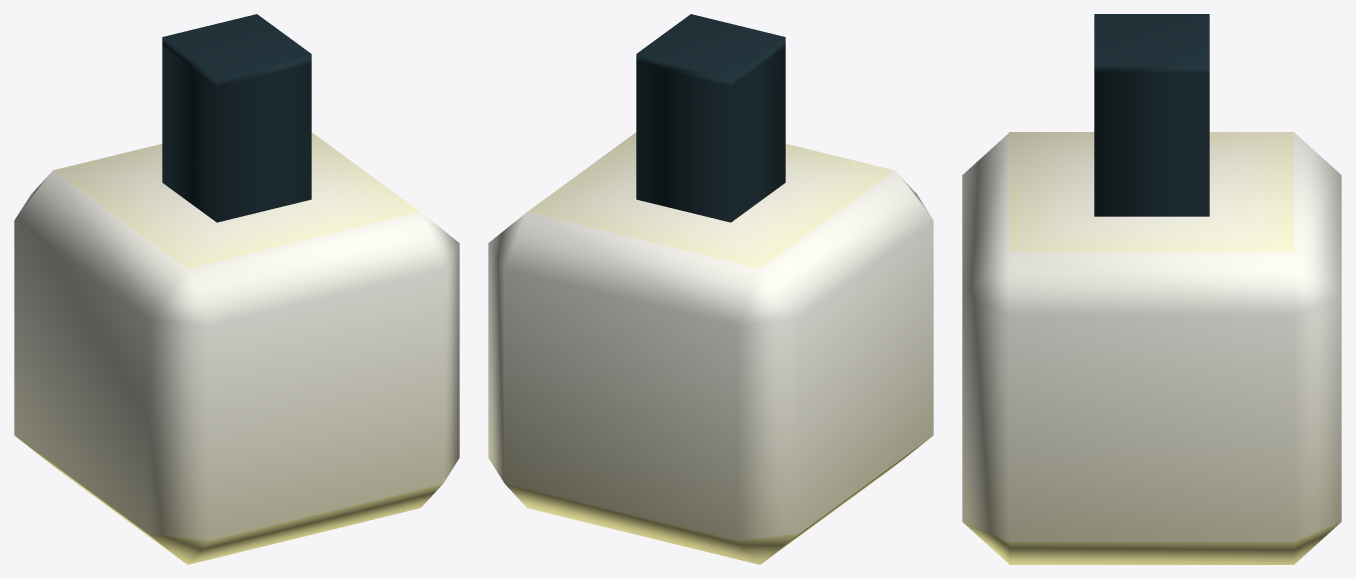
Rendered from candle_small_3.fbx.
3 views of the same model, side by side, from view 1: azimuth 30°, elevation 25°; view 2: azimuth 150°, elevation 25°; view 3: azimuth 270°, elevation 25° (orthographic). The views are drawn at different scales.
Visible parts, largest first — view 1: candle_small_3; view 2: candle_small_3; view 3: candle_small_3.
Part boxes in pixels (x1,y1,x2,y2): candle_small_3: (14, 14, 459, 564); candle_small_3: (488, 14, 933, 564); candle_small_3: (962, 14, 1341, 564).
Size of the model in its own units: 18.51 by 25.13 by 18.51.
1 material, 1 textured.
